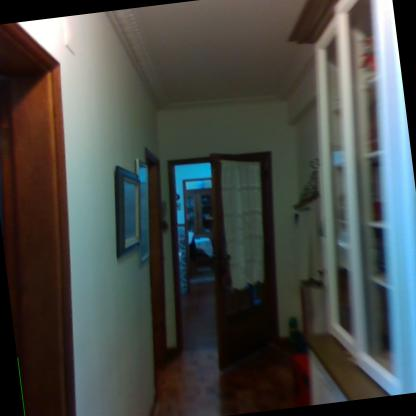semi: (154, 137, 297, 378)
